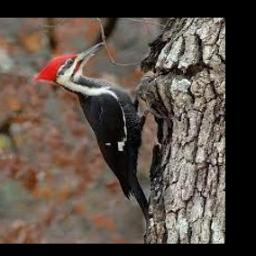Woodpecker: (33, 42, 151, 230)
